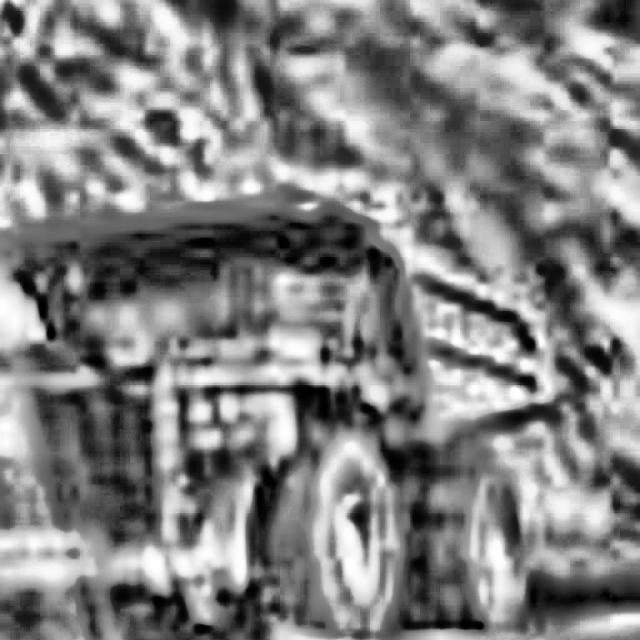dump_truck: (0, 158, 562, 639)
